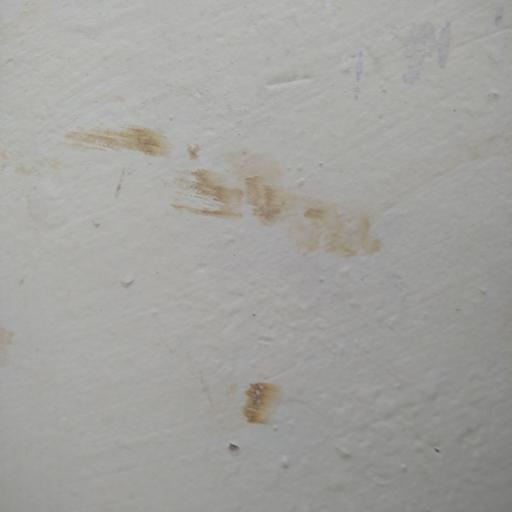stain: (71, 97, 381, 495)
